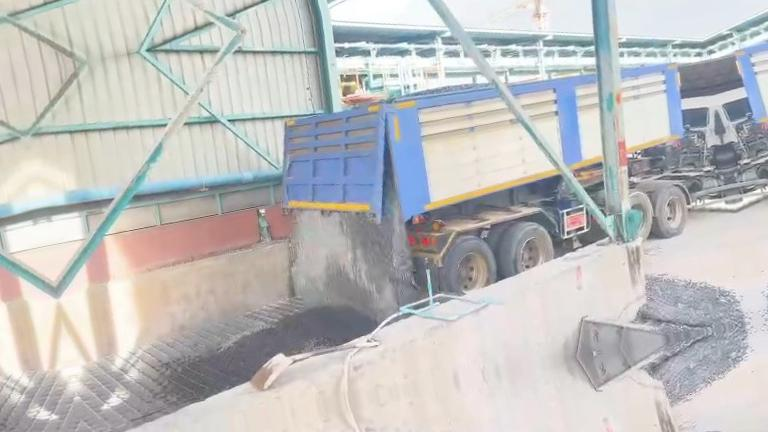gravel: (291, 182, 418, 320), (637, 274, 749, 335)
